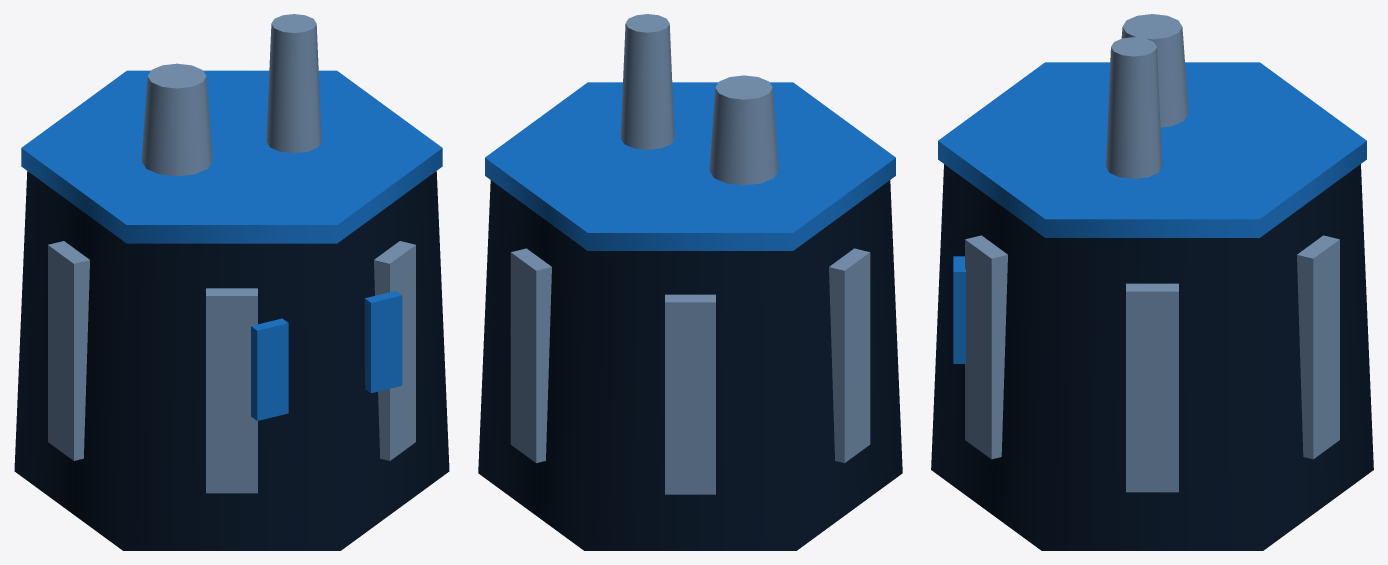
File: company-emitter.glb
3 renders of one model, left to right at view 1: azimuth 30°, elevation 25°; view 2: azimuth 150°, elevation 25°; view 3: azimuth 270°, elevation 25°, orthographic. The views are drawn at different scales.
Size of the model in its own units: 8.72 by 10.77 by 9.6.
